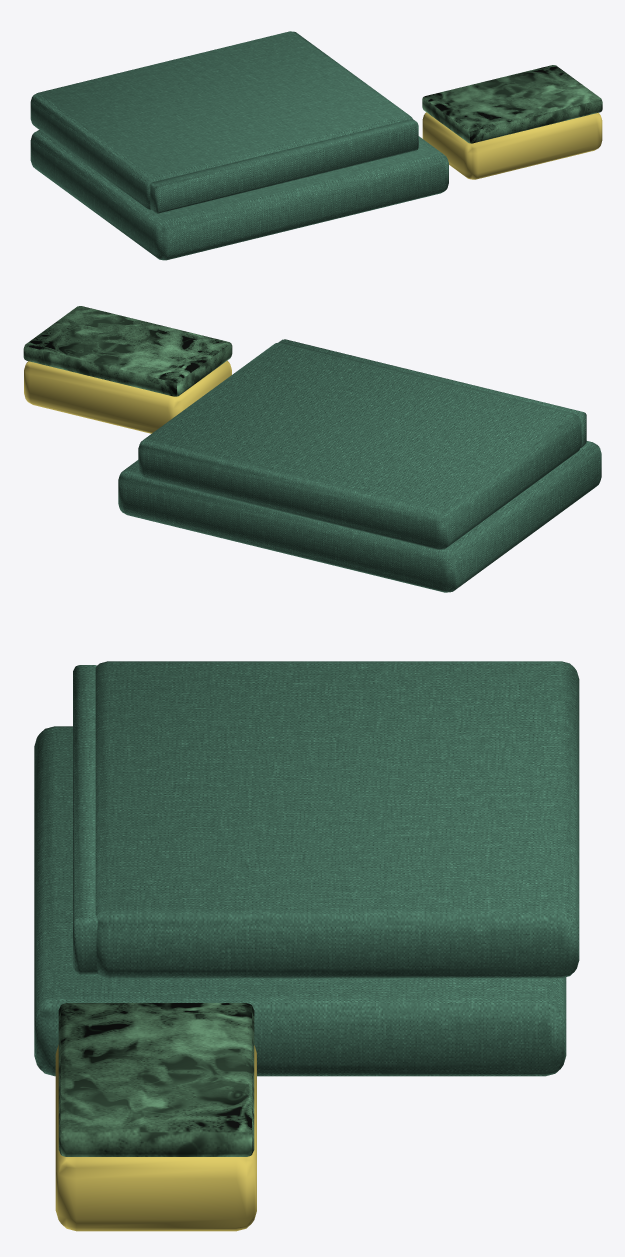
File: asset_077_cleaning_cloth_and_sponge_set.glb
The picture shows the model from 3 angles, top to bottom: view 1: azimuth 30°, elevation 25°; view 2: azimuth 150°, elevation 25°; view 3: azimuth 270°, elevation 25°; orthographic projection. The views are drawn at different scales.
Visible parts, largest first — view 1: MESH_ClothFoldedUpper, MESH_ClothFoldedLower, MESH_ClothFoldSeam, MESH_SpongeScourPad, MESH_SpongeFoam; view 2: MESH_ClothFoldedUpper, MESH_ClothFoldedLower, MESH_SpongeScourPad, MESH_SpongeFoam, MESH_ClothFoldSeam; view 3: MESH_ClothFoldedUpper, MESH_ClothFoldedLower, MESH_SpongeScourPad, MESH_SpongeFoam, MESH_ClothFoldSeam.
Part boxes in pixels (bbox=[...]): MESH_ClothFoldedUpper: bbox=[30, 31, 412, 210]; MESH_ClothFoldedLower: bbox=[30, 130, 448, 260]; MESH_ClothFoldSeam: bbox=[150, 119, 418, 213]; MESH_SpongeScourPad: bbox=[422, 65, 602, 143]; MESH_SpongeFoam: bbox=[422, 112, 602, 179]; MESH_ClothFoldedUpper: bbox=[138, 342, 581, 549]; MESH_ClothFoldedLower: bbox=[118, 441, 601, 592]; MESH_SpongeScourPad: bbox=[23, 306, 232, 396]; MESH_SpongeFoam: bbox=[24, 360, 231, 433]; MESH_ClothFoldSeam: bbox=[278, 339, 586, 447]; MESH_ClothFoldedUpper: bbox=[95, 661, 579, 978]; MESH_ClothFoldedLower: bbox=[34, 726, 566, 1076]; MESH_SpongeScourPad: bbox=[58, 1003, 254, 1156]; MESH_SpongeFoam: bbox=[55, 1045, 256, 1231]; MESH_ClothFoldSeam: bbox=[73, 665, 97, 974].
Bounding box in the file's own units: 0.3705 × 0.0605 × 0.1935.
Materials: 4 (2 with a texture image).
